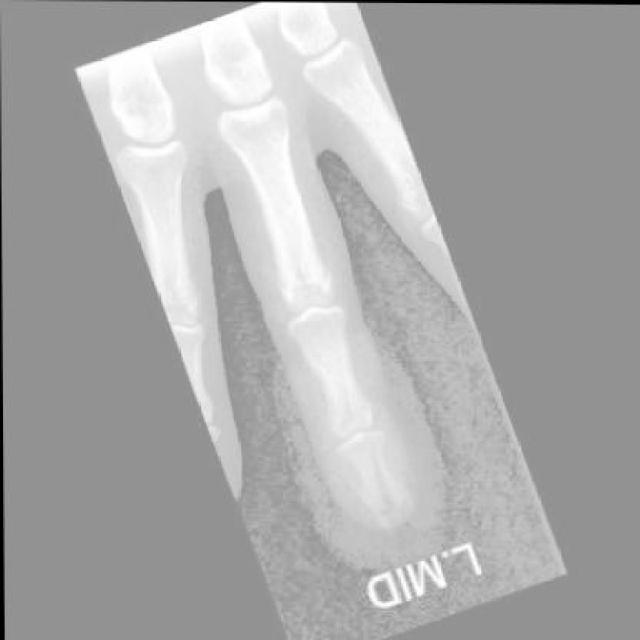Fracture: (345, 440, 420, 528)
